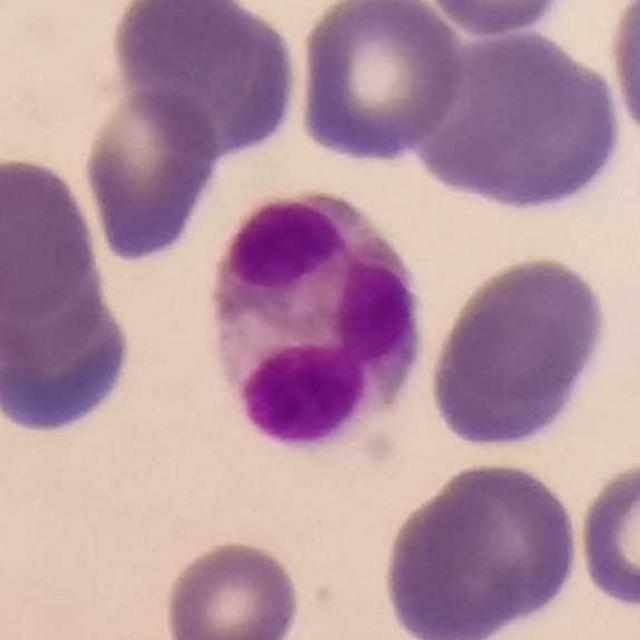Eosinophil: (197, 182, 430, 458)
RBC: (411, 25, 629, 217), (423, 250, 614, 452), (105, 0, 302, 159), (292, 0, 468, 166), (79, 85, 227, 267), (0, 261, 138, 442), (376, 487, 533, 640), (423, 466, 581, 614), (0, 152, 105, 320), (160, 536, 304, 640), (574, 454, 640, 613), (415, 0, 582, 38), (604, 1, 640, 145)
